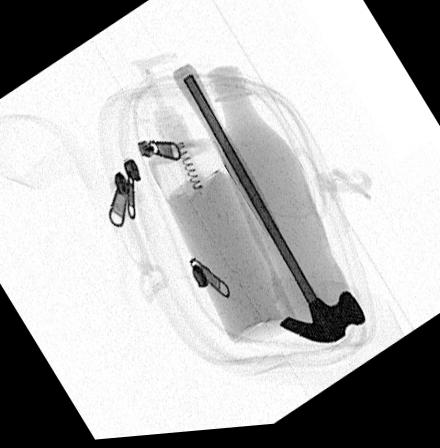Hammer: (171, 65, 365, 348)
